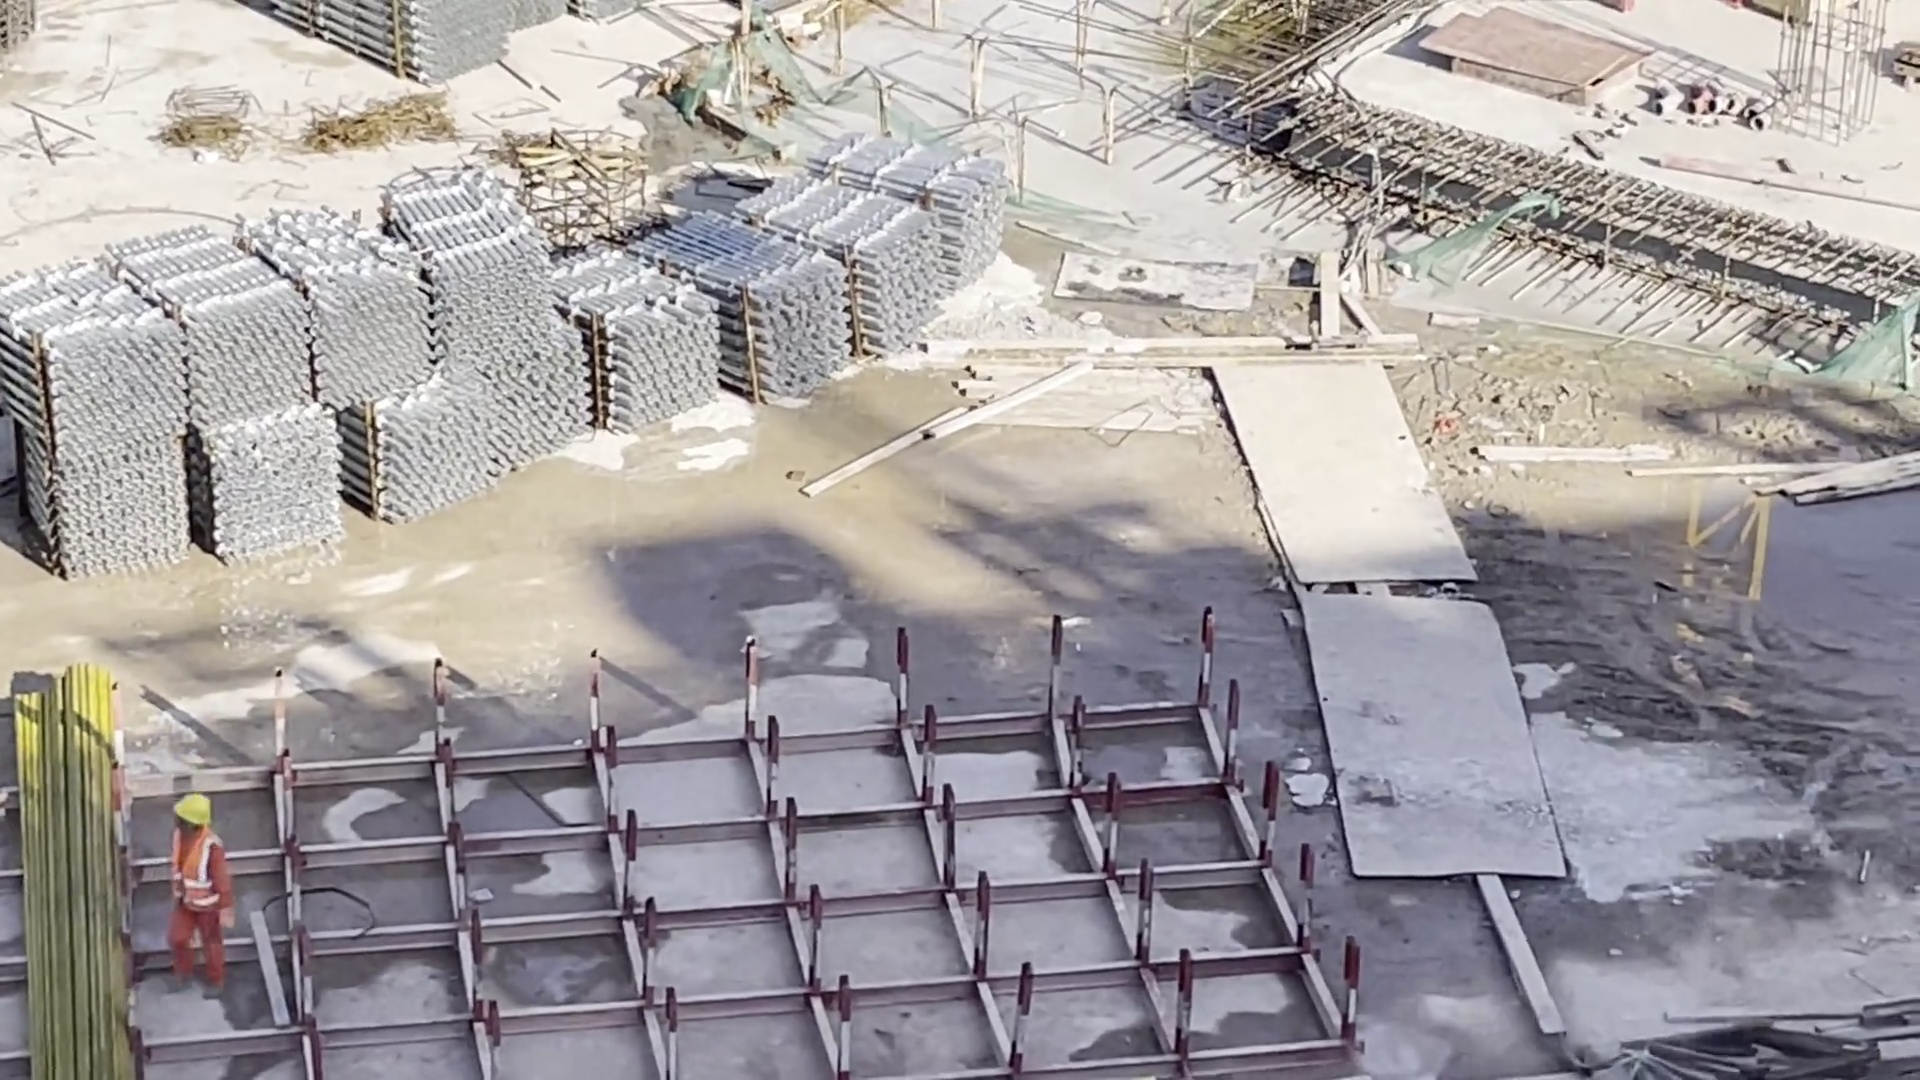board: (1405, 6, 1686, 100)
helmet: (171, 791, 217, 835)
person: (163, 793, 230, 999)
scaffold: (1, 121, 1016, 576)
vest: (169, 830, 228, 914)
